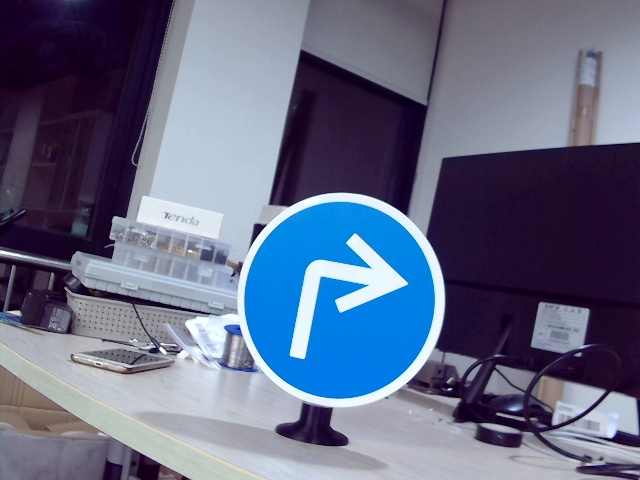turn_right: (285, 230, 402, 362)
